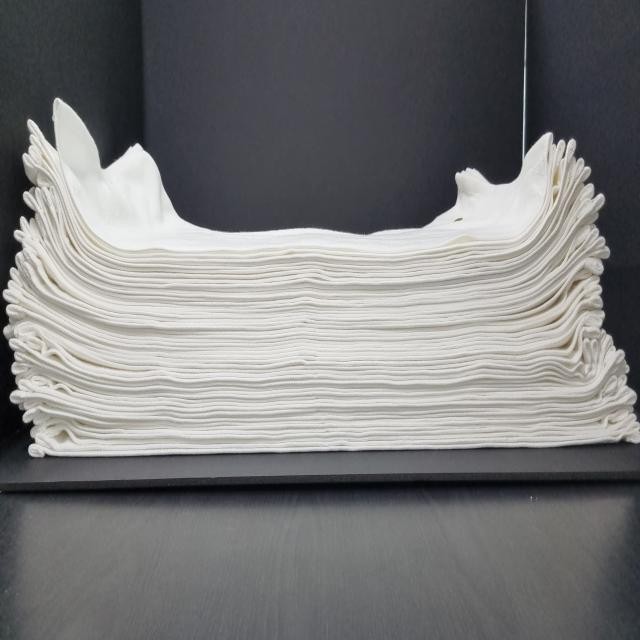50_towel_counts: (0, 78, 640, 473)
